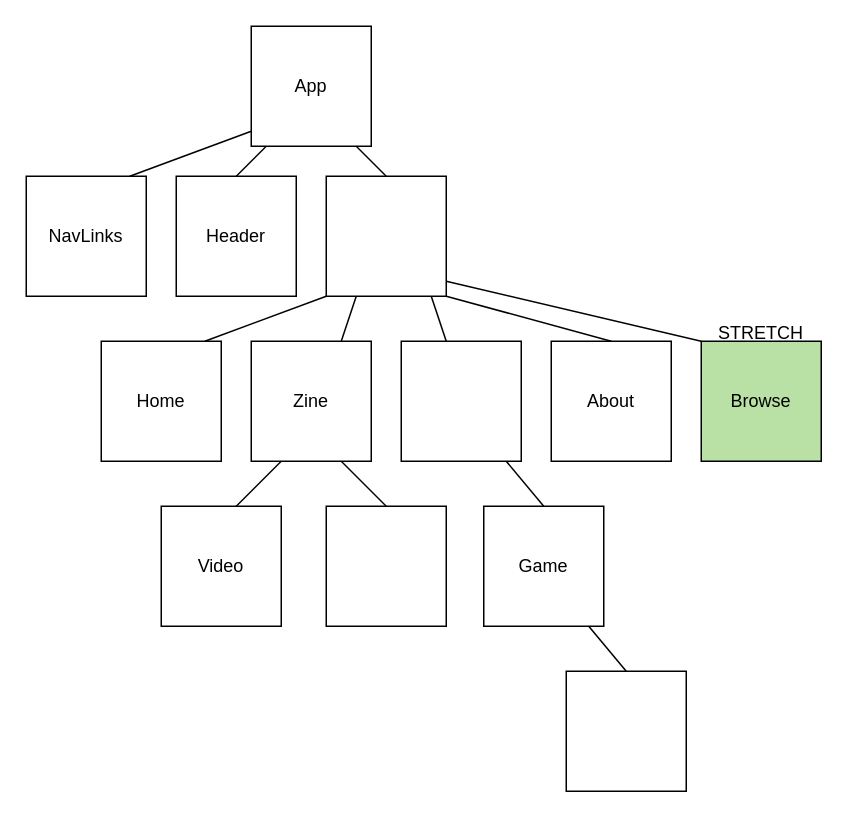
The diagram is 848 pixels wide and 818 high, and some of its shapes have lost their labels. Each missing label, with the centre of its shape:
"High Score" goes at pixel 625 730.
"Pages" goes at pixel 385 565.
"Play Control" goes at pixel 460 400.
"Site Control" goes at pixel 385 235.
